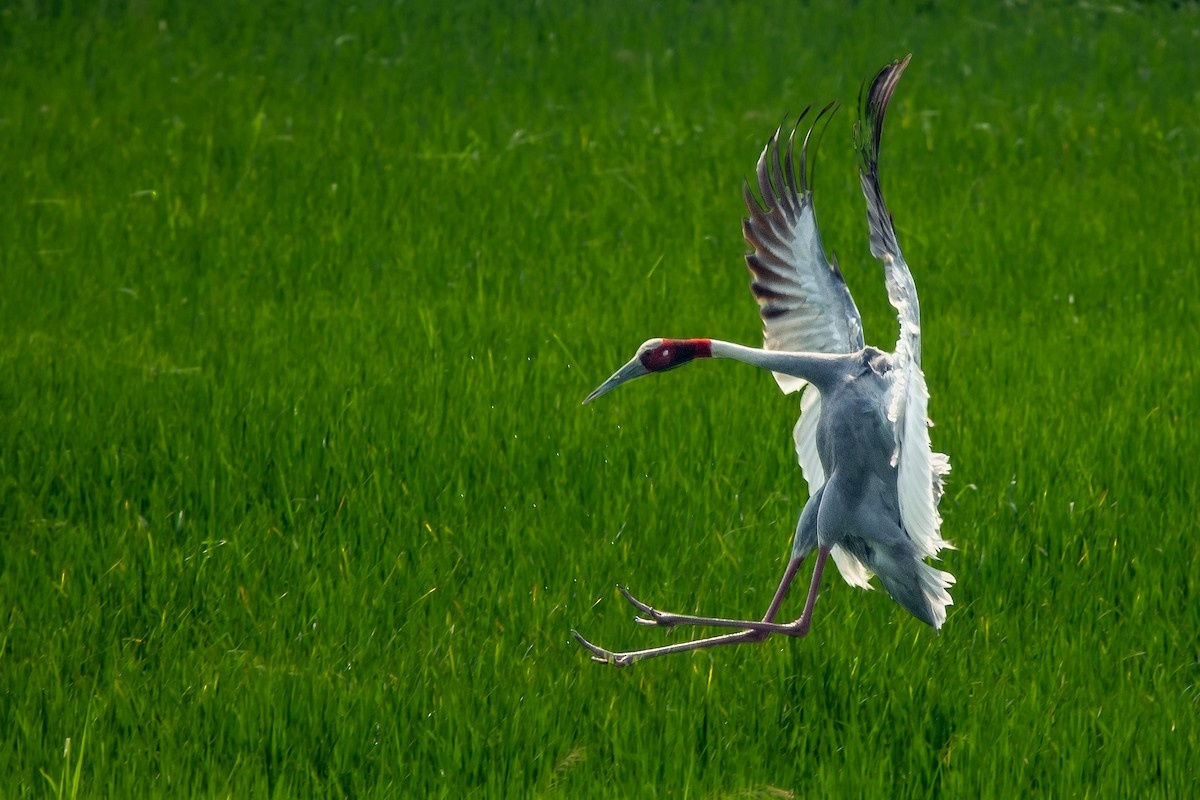crane: (547, 93, 991, 686)
